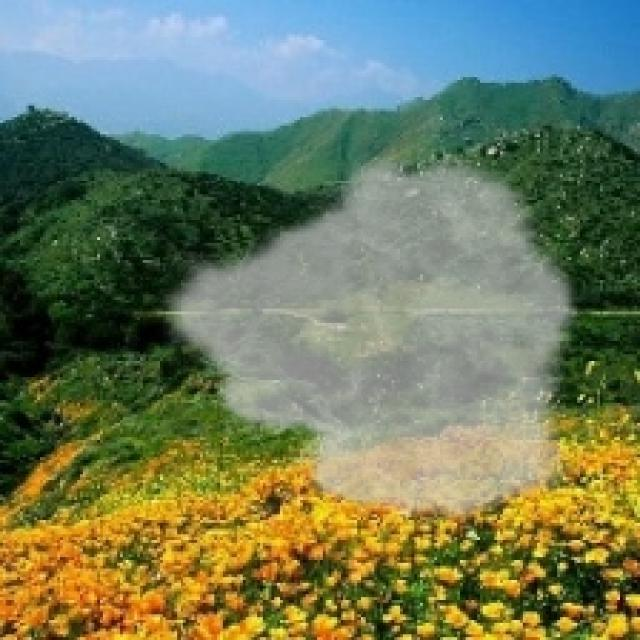Smoke: (157, 145, 583, 526)
